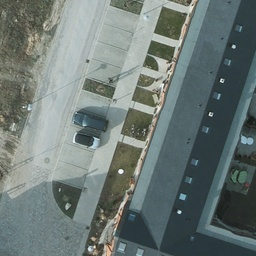car: (75, 113, 108, 130), (72, 132, 101, 150)
